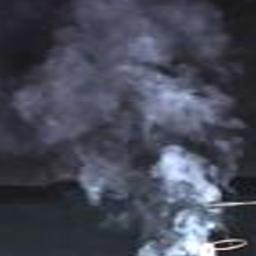smoke: (10, 0, 245, 255)
